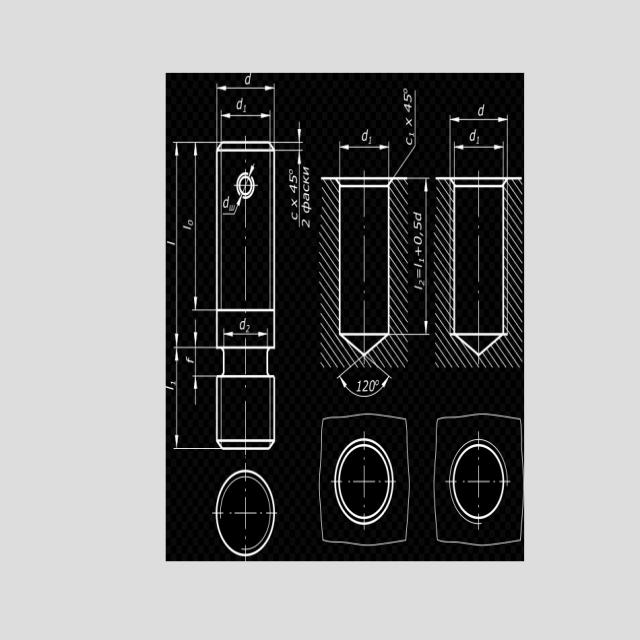marking_line: (170, 140, 215, 347), (172, 346, 216, 451), (193, 140, 216, 313), (448, 115, 509, 177), (408, 177, 430, 334), (216, 84, 276, 140), (276, 120, 306, 230), (337, 356, 393, 399), (276, 148, 302, 230), (192, 319, 216, 405), (452, 141, 505, 177), (337, 142, 391, 177), (220, 109, 271, 140), (222, 328, 269, 346), (276, 122, 305, 144), (222, 197, 241, 216), (249, 162, 256, 176)
numeric: (413, 208, 423, 221), (469, 127, 476, 142), (186, 354, 196, 364), (478, 103, 485, 117), (362, 128, 369, 141), (239, 317, 246, 330), (222, 195, 229, 208), (289, 174, 298, 184), (403, 93, 412, 103), (414, 221, 423, 231), (236, 97, 243, 109), (414, 236, 423, 245), (289, 184, 297, 194), (291, 198, 299, 208), (290, 211, 298, 221), (404, 103, 412, 113), (245, 74, 251, 86), (302, 219, 310, 228), (406, 118, 413, 128), (182, 224, 192, 231), (406, 137, 412, 147), (413, 284, 423, 290), (413, 262, 422, 268), (418, 257, 425, 264), (476, 135, 480, 145), (167, 242, 175, 247), (419, 279, 424, 286), (246, 325, 251, 332), (368, 136, 372, 144), (243, 103, 246, 113), (188, 219, 193, 225), (170, 380, 176, 385), (409, 133, 414, 137)
special_symbol: (415, 246, 422, 257), (416, 268, 421, 279), (289, 168, 294, 174), (403, 87, 408, 93), (420, 232, 424, 237)
